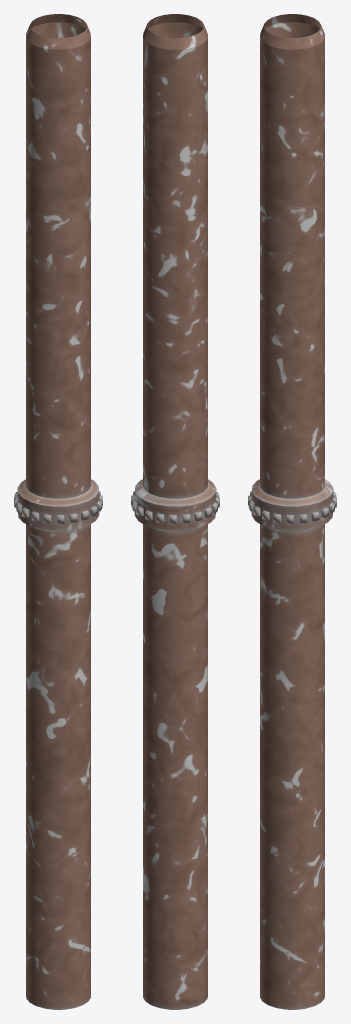
File: pipe 3.fbx
The picture shows the model from 3 angles, left to right: view 1: azimuth 30°, elevation 25°; view 2: azimuth 150°, elevation 25°; view 3: azimuth 330°, elevation 25°; orthographic projection.
Parts seen in each view (by area): view 1: Straight Pipe 2; view 2: Straight Pipe 2; view 3: Straight Pipe 2.
Part boxes in pixels (left/top/right/bottom): Straight Pipe 2: left=14, top=14, right=102, bottom=1009; Straight Pipe 2: left=131, top=14, right=219, bottom=1009; Straight Pipe 2: left=248, top=14, right=336, bottom=1009.
Size of the model in its own units: 31.45 by 380 by 31.45.
Materials: 1 (1 with a texture image).
